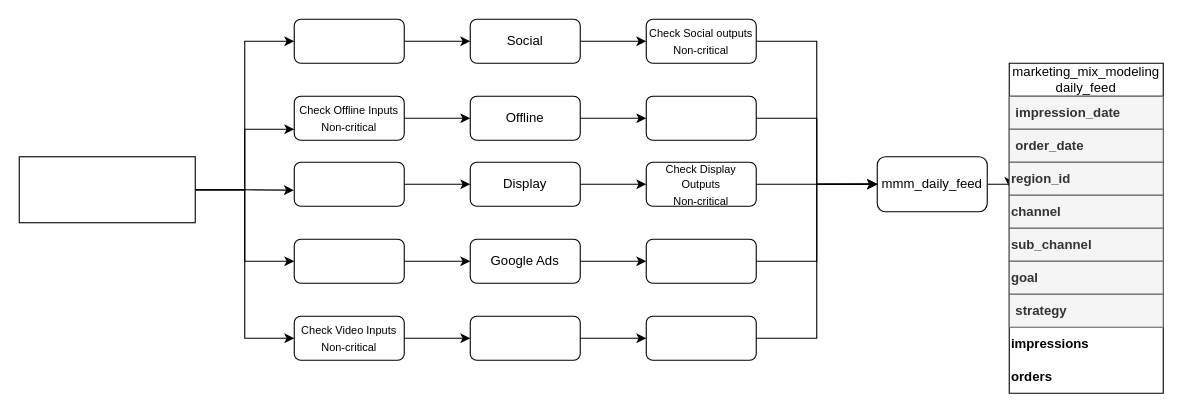
The diagram is 1183 pixels wide and 413 high, and some of its shapes have lost their labels. The centre of each missing label's shape, as x and y in pixels:
"Check Display Inputs Non-critical" goes at point (348, 183).
"Check Google-Ads Inputs Non-critical" goes at point (348, 260).
"Check Google-Ads Outputs Non-critical" goes at point (700, 260).
"Check Offline outputs Non-critical" goes at point (700, 117).
"Check Social Inputs Non-critical" goes at point (348, 40).
"Check Video Outputs Non-critical" goes at point (700, 337).
"MA_ATT_mmm_input_data" goes at point (106, 189).
"Video" goes at point (524, 337).
